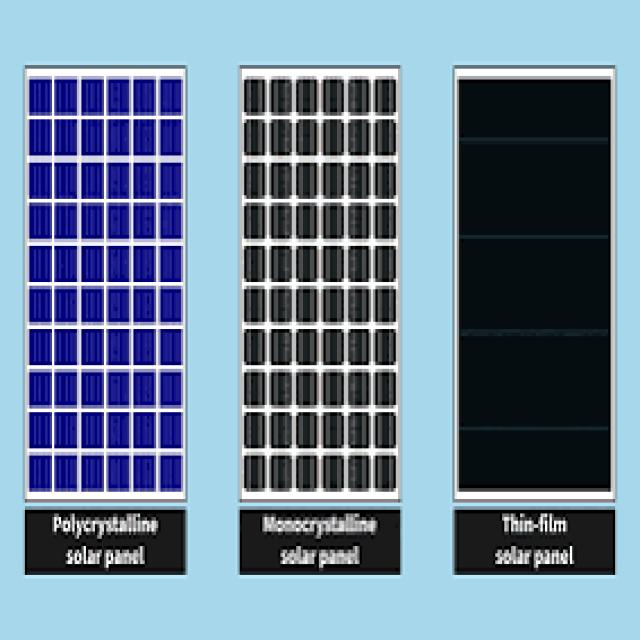Solar: (241, 68, 402, 498), (29, 68, 187, 501), (456, 68, 616, 495)
